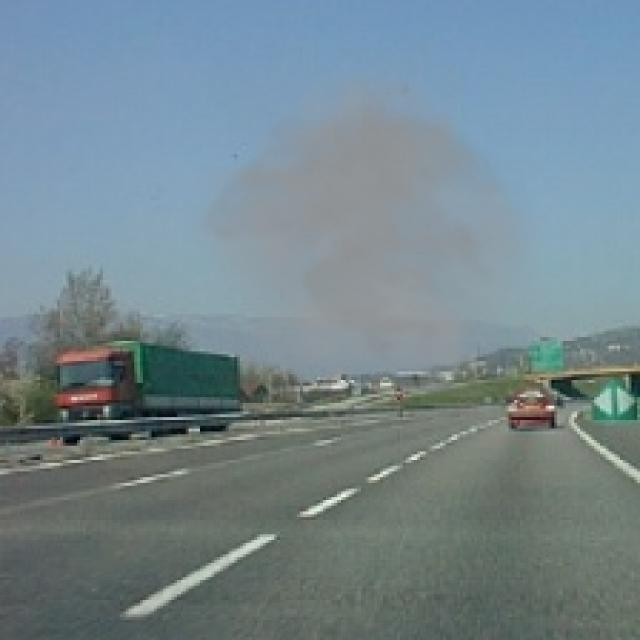Smoke: (182, 34, 558, 397)
